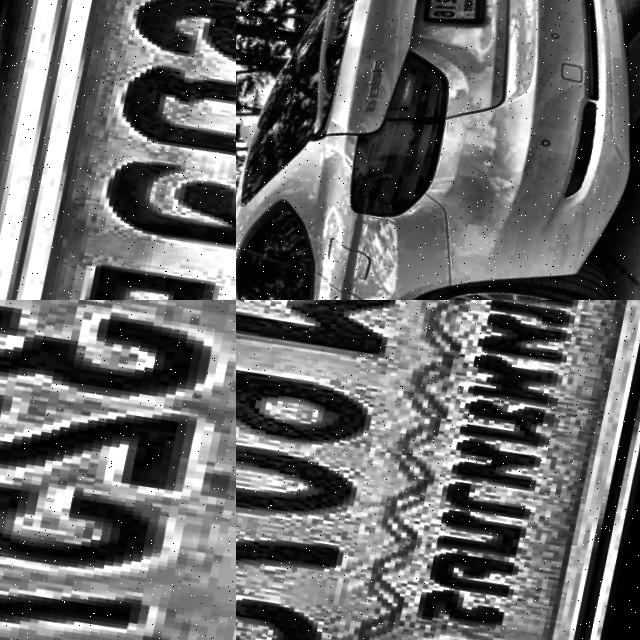license-plate: (236, 300, 640, 640), (0, 300, 236, 640), (0, 0, 236, 300), (417, 0, 493, 32)
